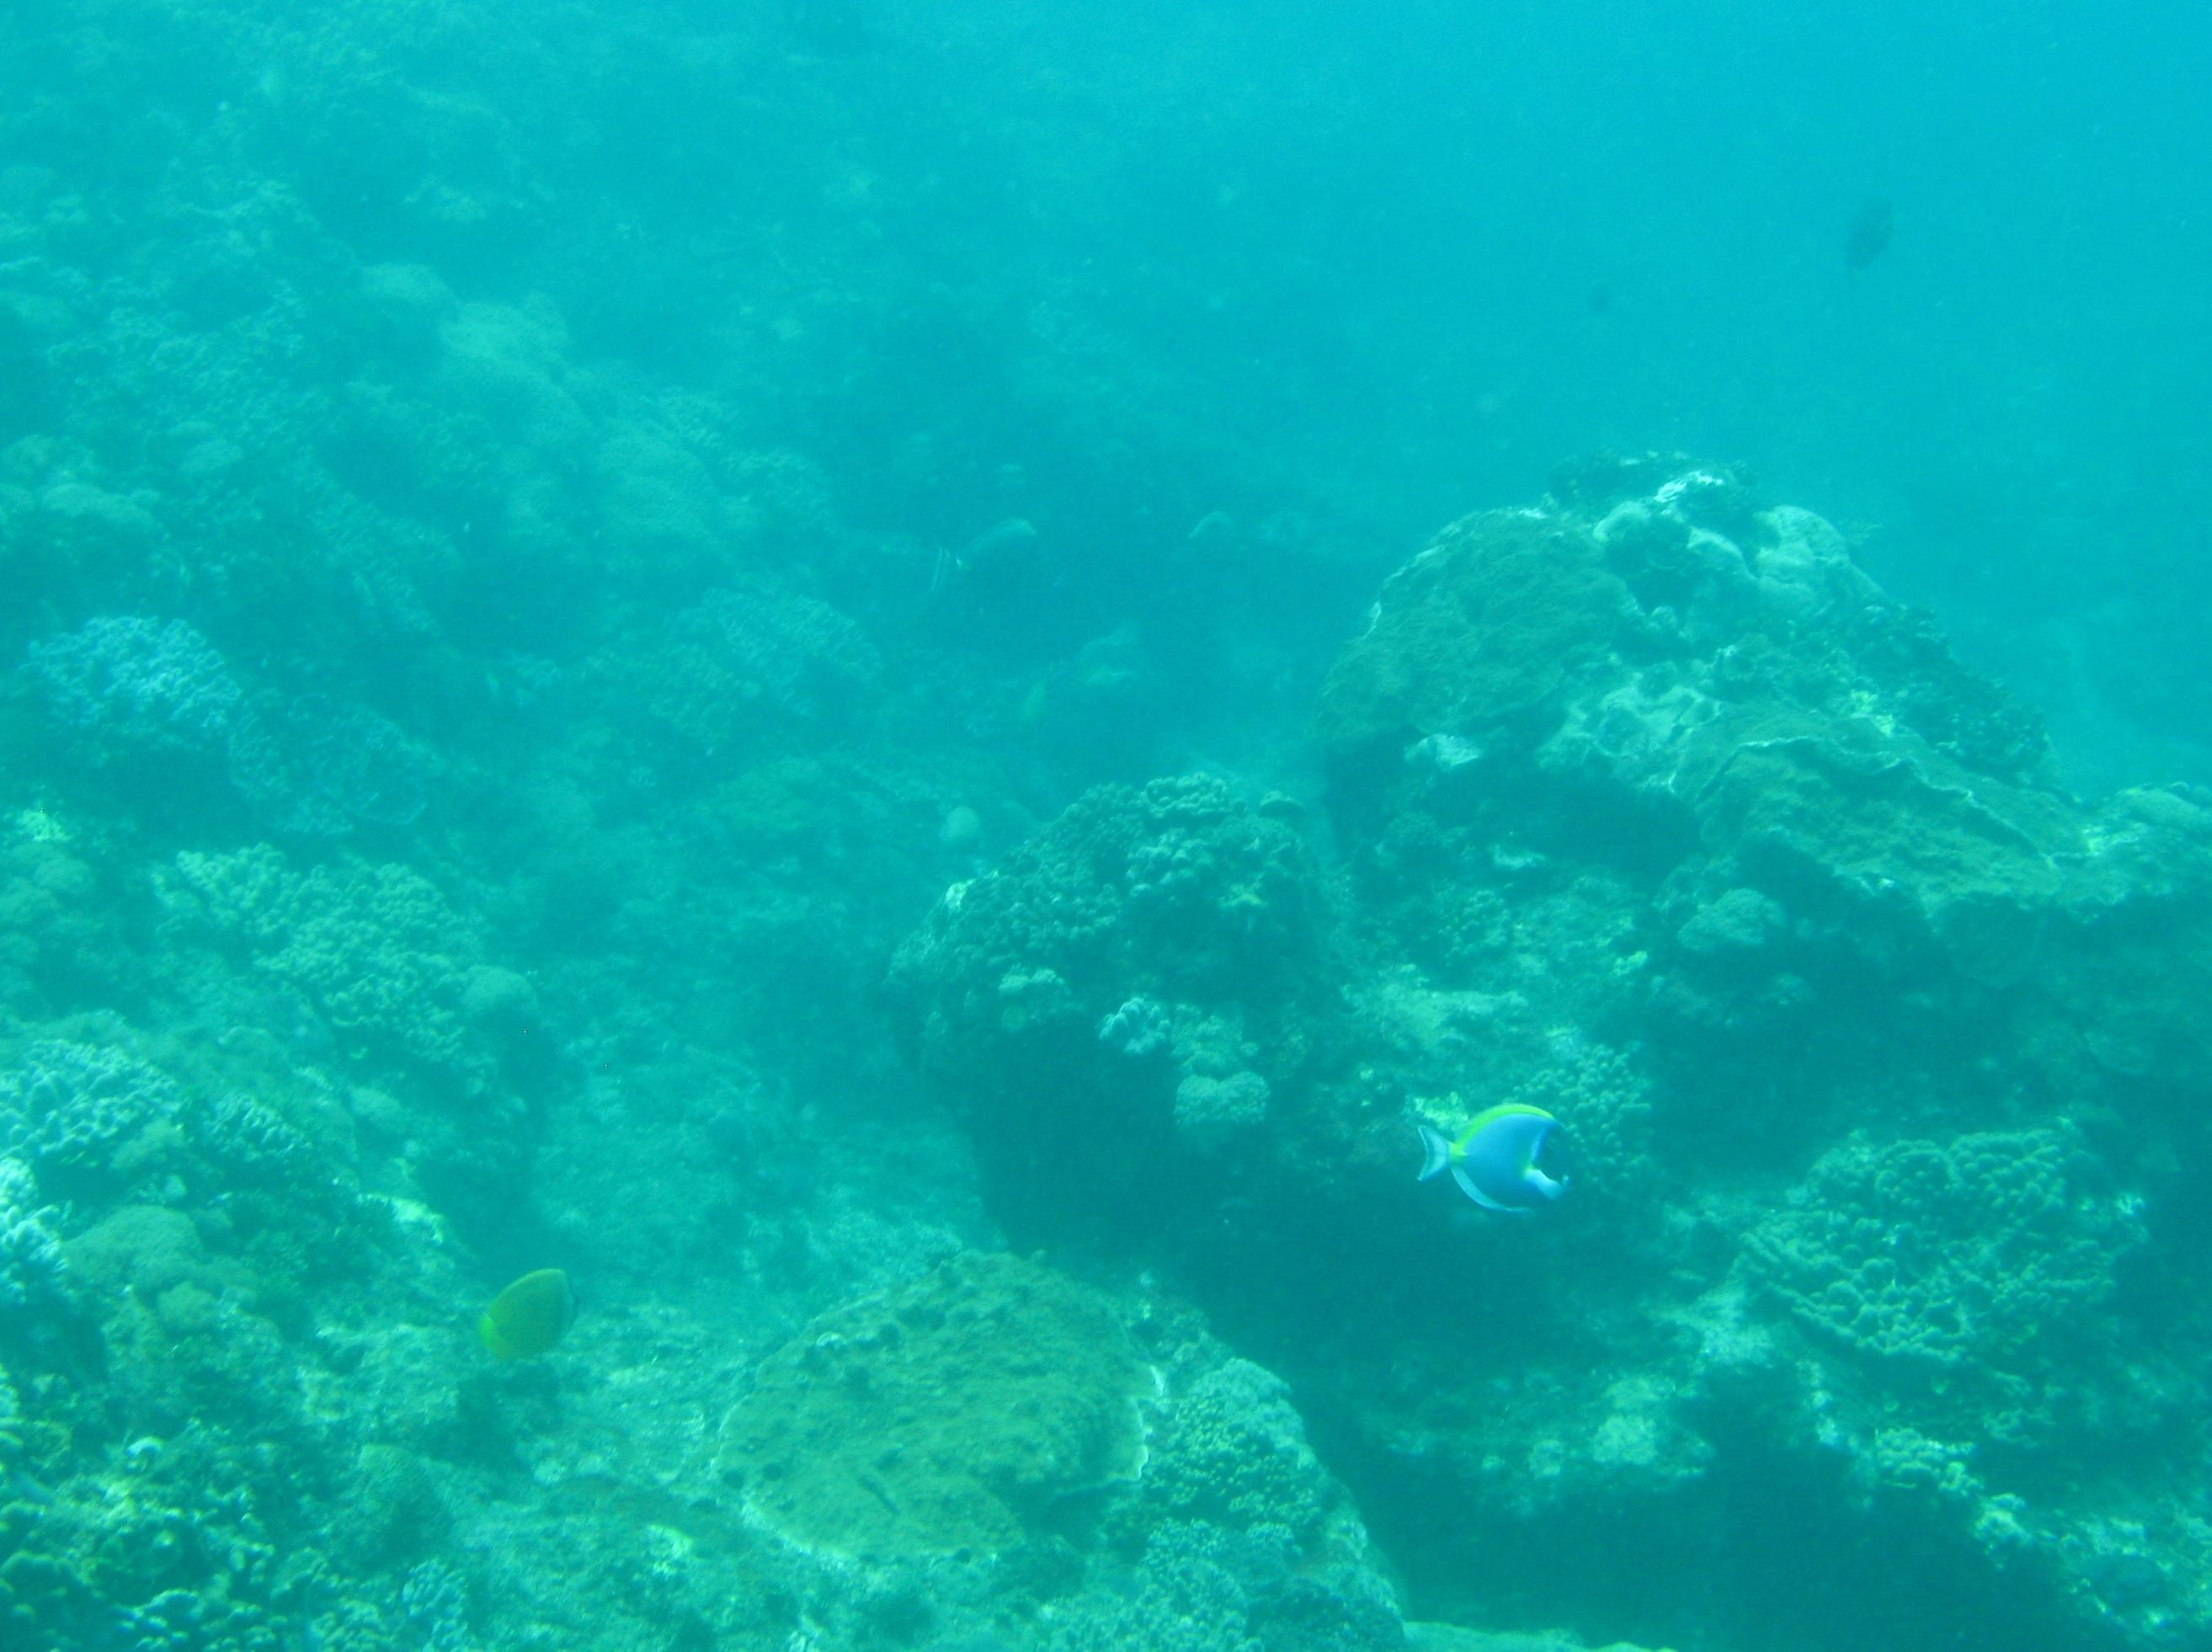Fish: (1372, 1038, 1685, 1338)
